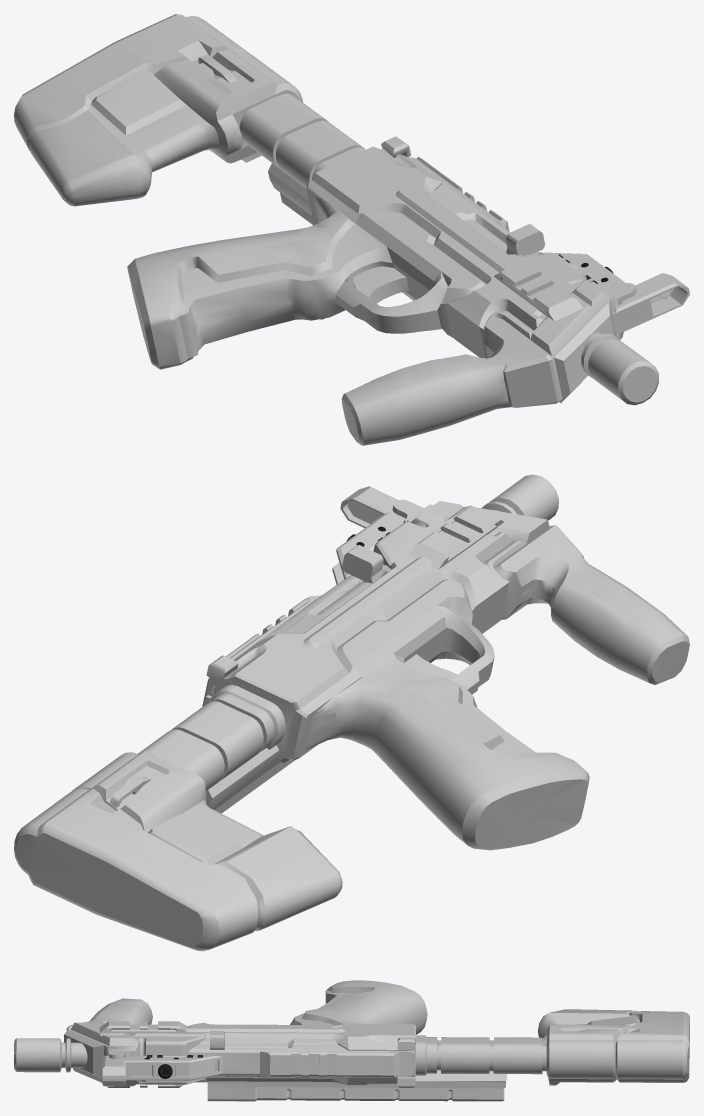
Rendered from M7T_Static.fbx.
3 views of the same model, one above another, from view 1: azimuth 30°, elevation 25°; view 2: azimuth 150°, elevation 25°; view 3: azimuth 270°, elevation 25° (orthographic). The views are drawn at different scales.
Parts seen in each view (by area): view 1: Magazine1; view 2: Magazine1; view 3: Magazine1.
Part boxes in pixels (<box>): Magazine1: <box>14,14,689,445</box>; Magazine1: <box>14,474,689,951</box>; Magazine1: <box>14,980,689,1101</box>.
Size of the model in its own units: 25.37 by 8.62 by 53.89.
